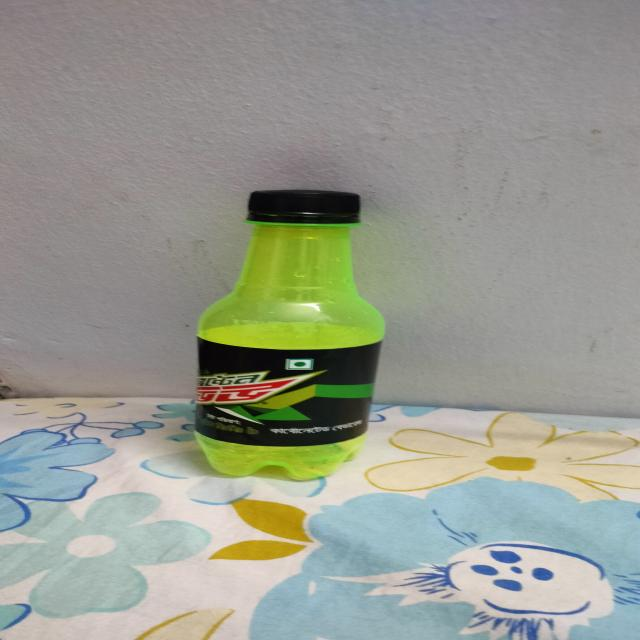Bottle: (192, 188, 386, 481)
